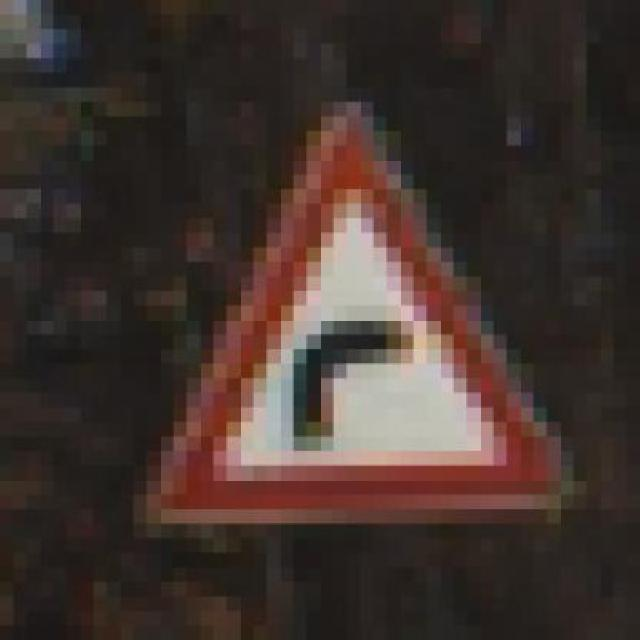Dangerous Rright Curve Ahead: (66, 87, 600, 553)
